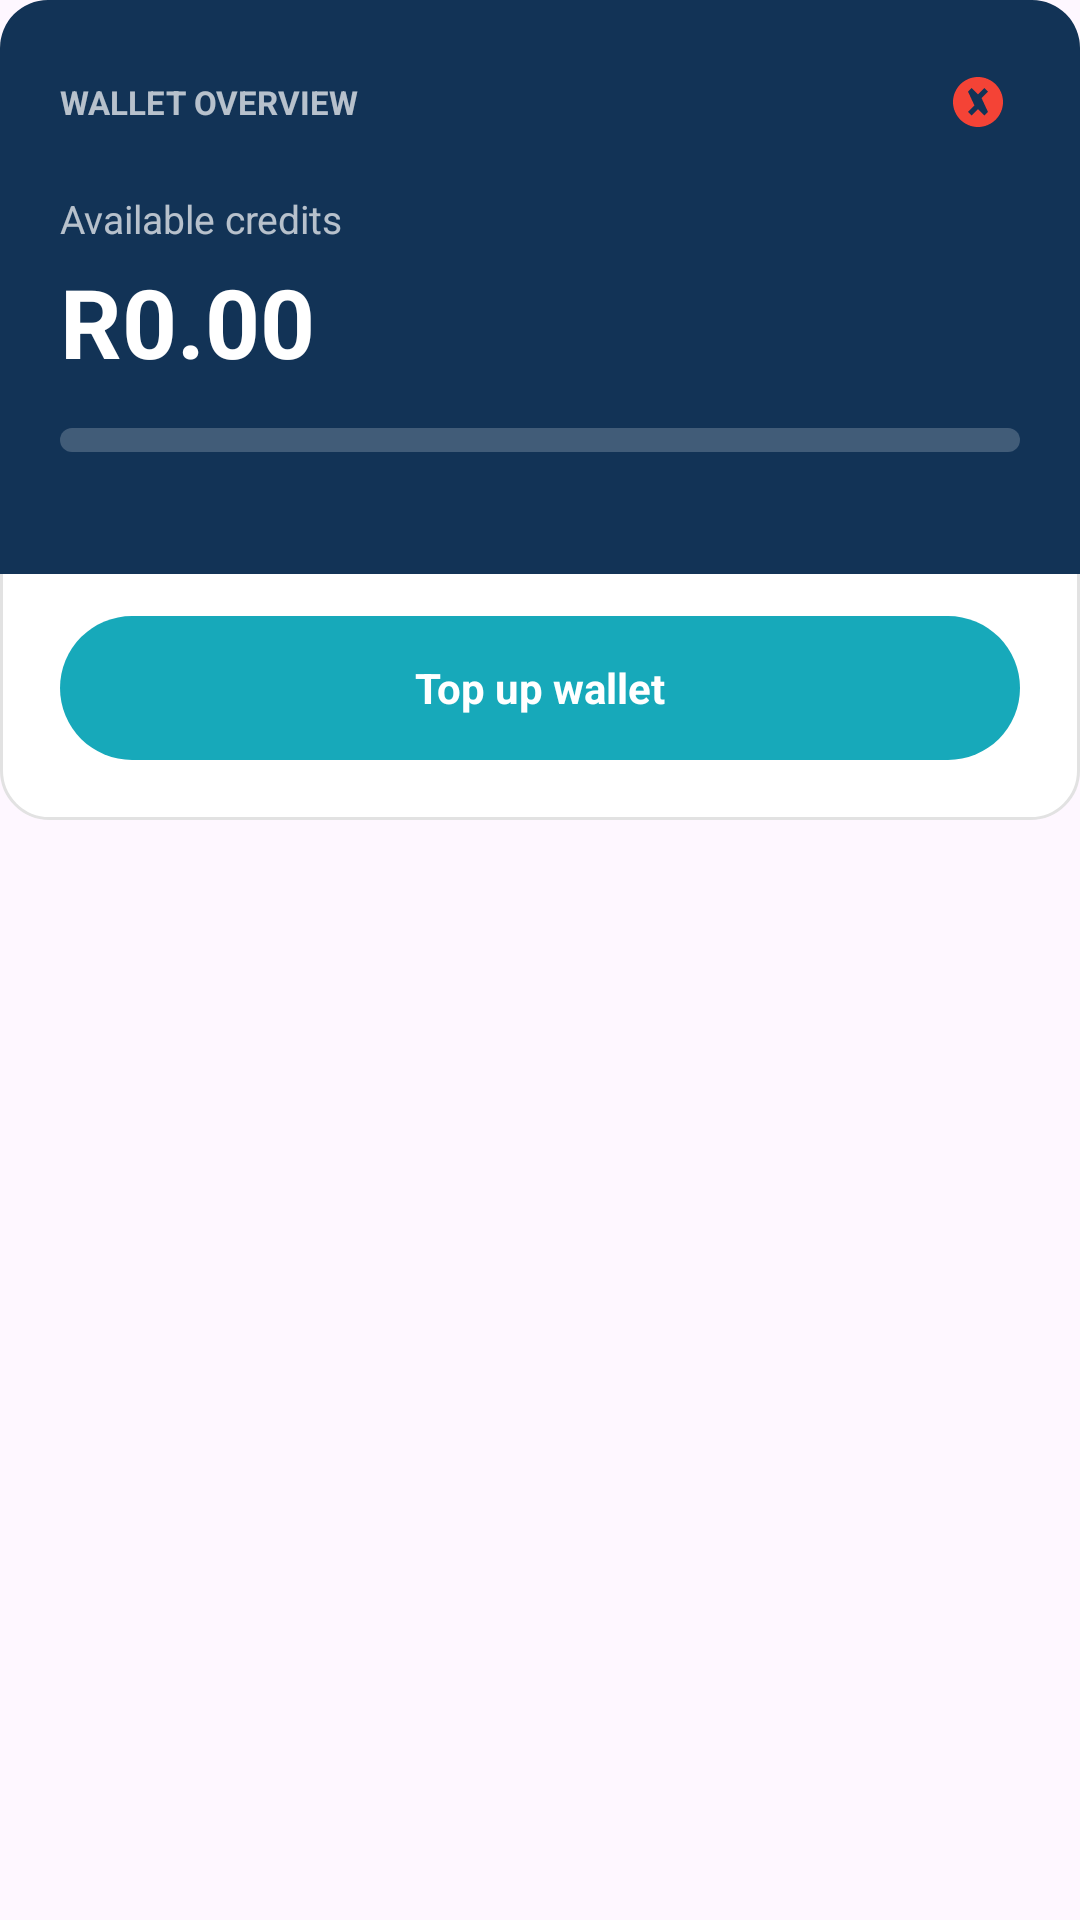

Where icons sit on this 1080x1920 app screen, as bbox=[x1, y1, x2, y2]:
Close: bbox=[953, 77, 1003, 127]
